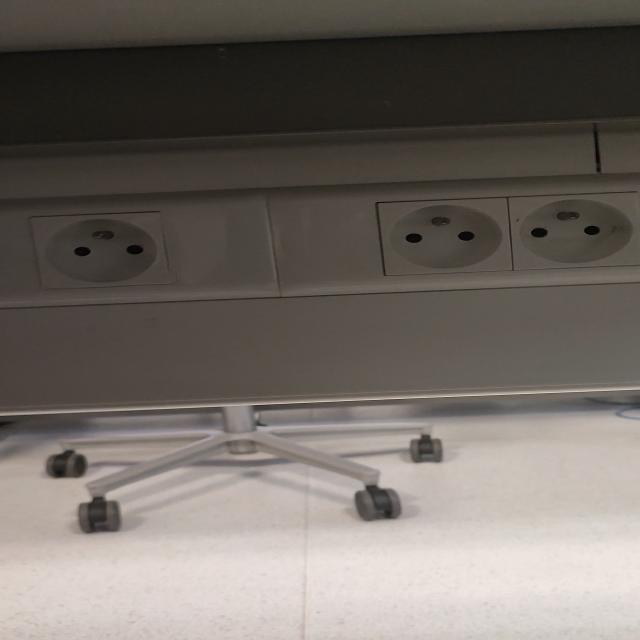house plug: (31, 208, 181, 290), (381, 199, 516, 278), (511, 193, 640, 270)
